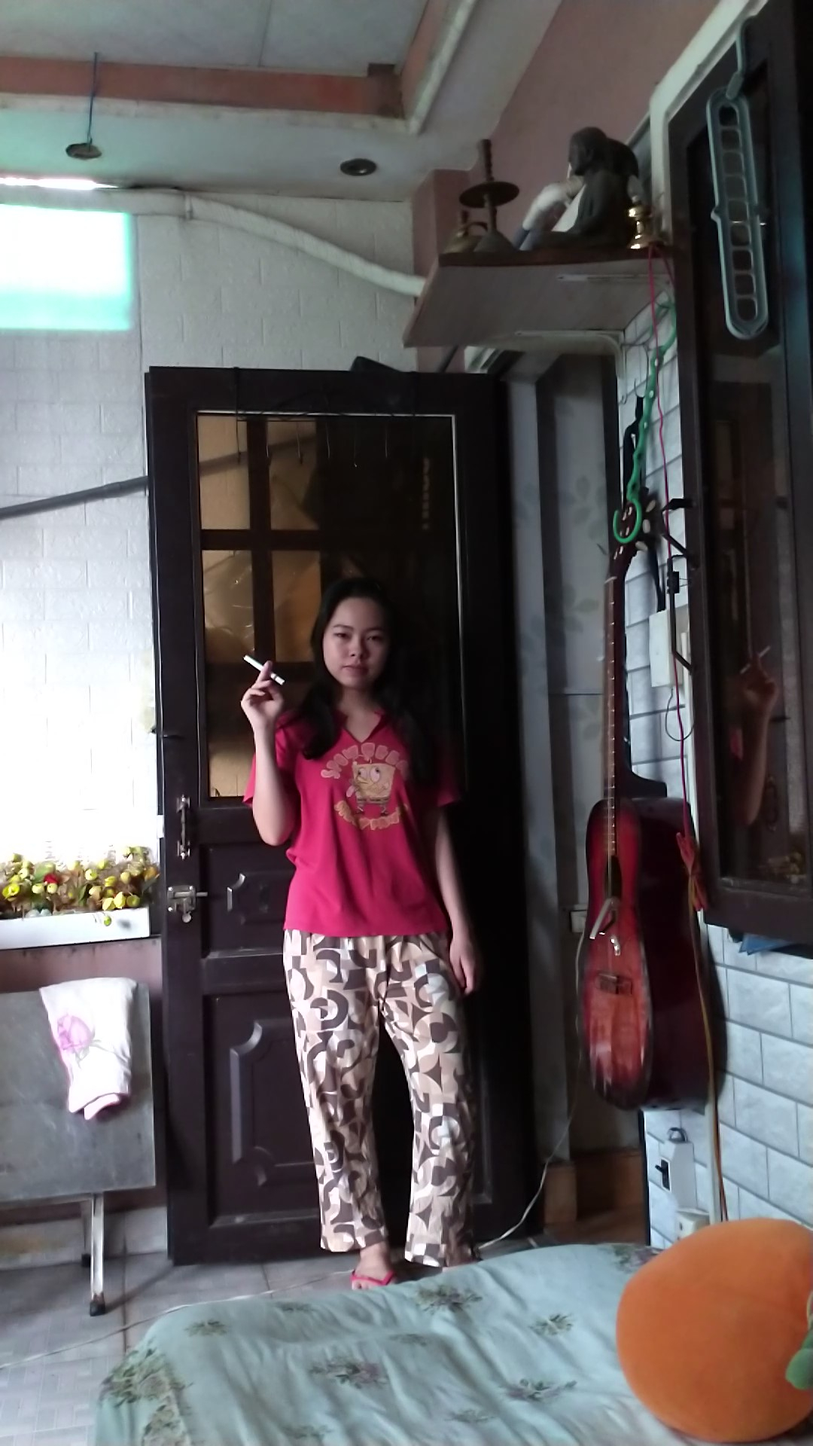cigarette: (240, 651, 262, 673)
person: (245, 529, 487, 1277)
